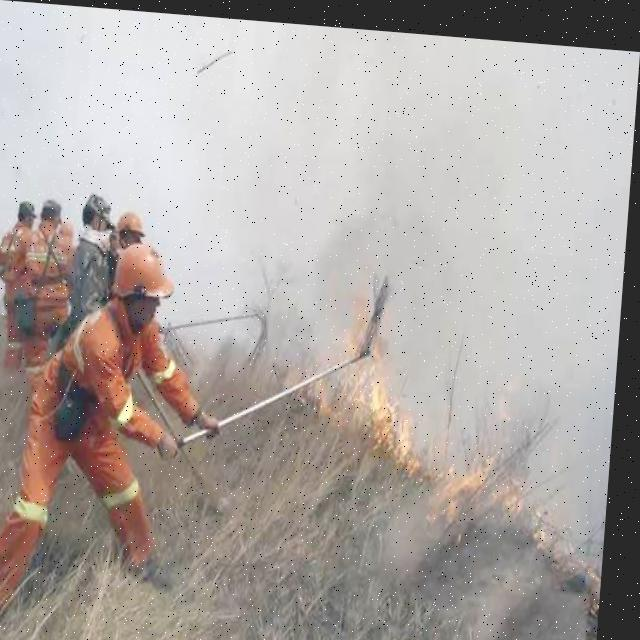Fire: (306, 267, 555, 520)
